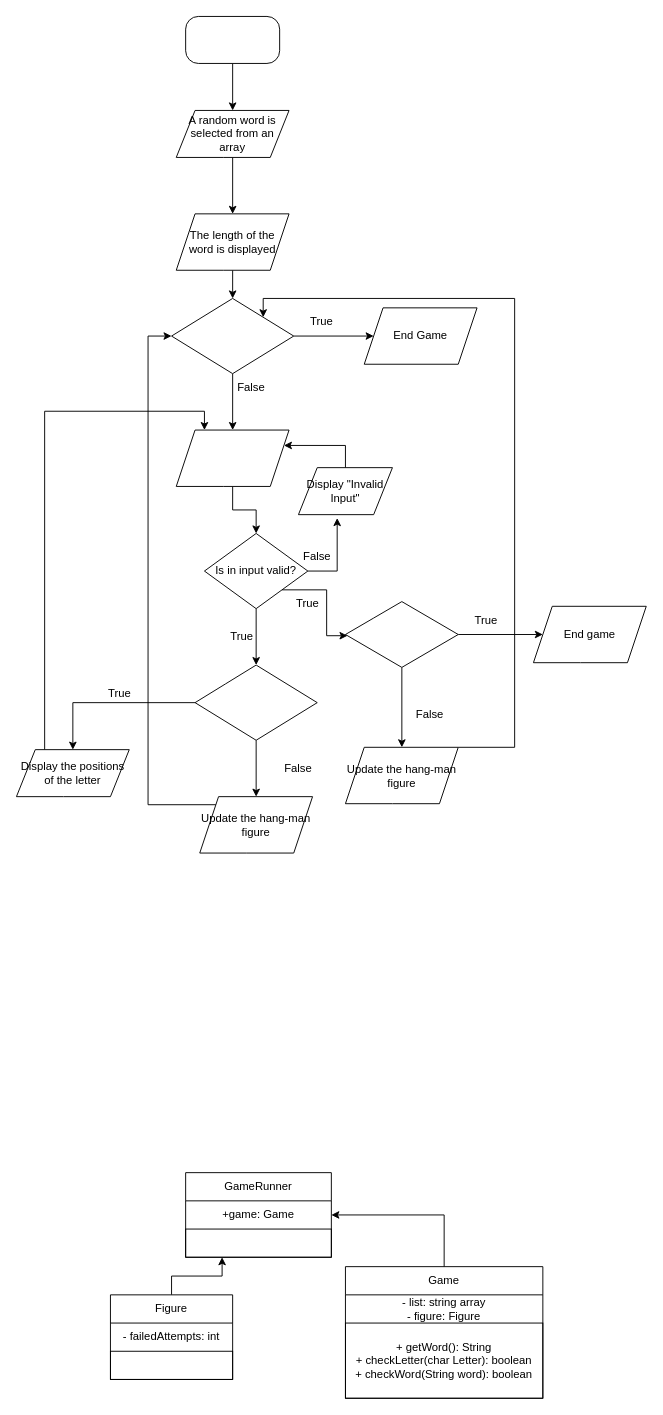
The diagram is 663 pixels wide and 1415 high, and some of its shapes have lost their labels. The shapes that lost their labels are listed below. From the top down, each one's centre as x and y in pixels, then its label:
At (x=232, y=39): "Start".
At (x=232, y=336): "Is the hang-man figure complete?".
At (x=232, y=457): "The player enters a letter or a word".
At (x=401, y=634): "If the word is correct".
At (x=255, y=702): "Is the letter present in the word?".
At (x=258, y=1242): "+figure: Figure".
At (x=171, y=1364): "+increaseAttempt(): void".
